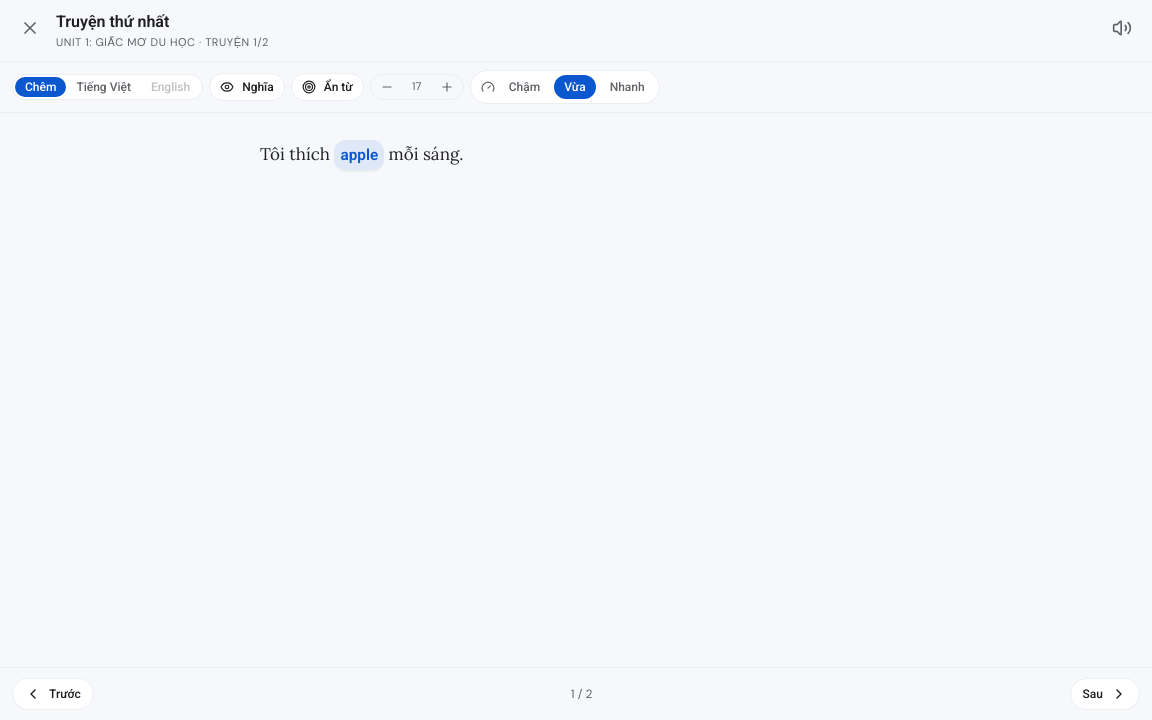
Test: StoryFullscreenReader › tăng/giảm cỡ chữ và ghi nhớ vào localStorage
Expected: the text "17" is shown, [412, 79, 421, 93]
Click the button named "Tăng cỡ chữ" at (447, 86), box [435, 74, 459, 98]
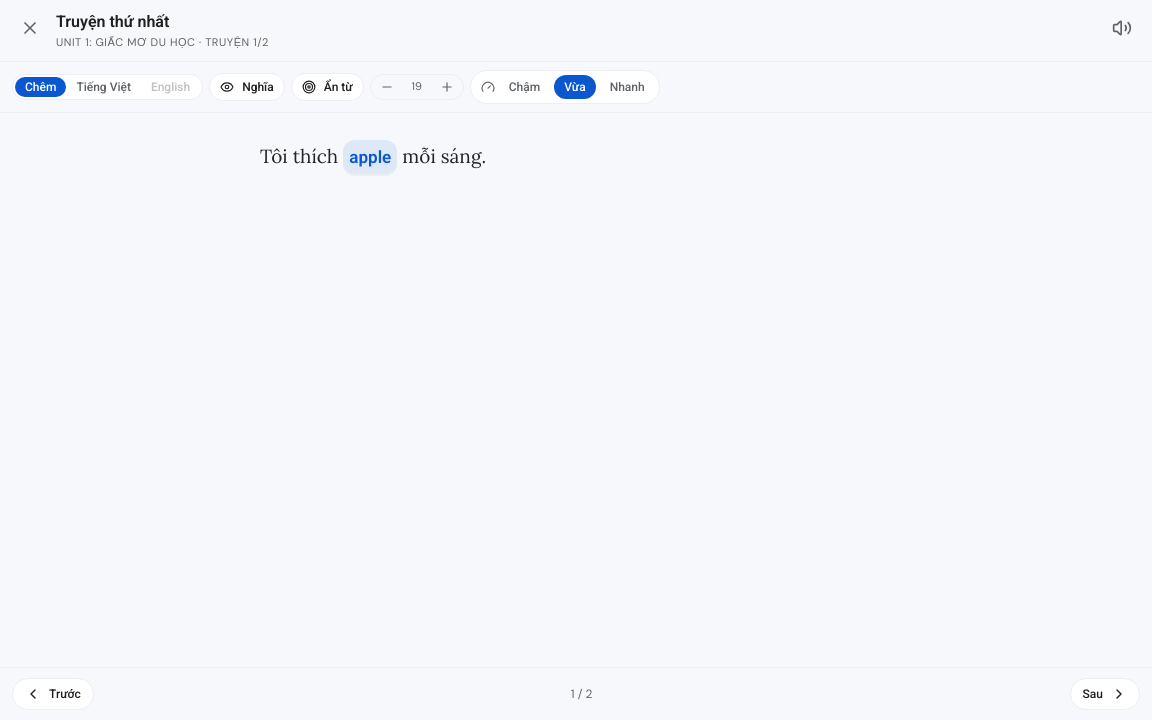
Now the text "19" is shown, box [412, 79, 422, 93]
Click the button named "Giảm cỡ chữ" at (387, 86), box [375, 74, 399, 98]
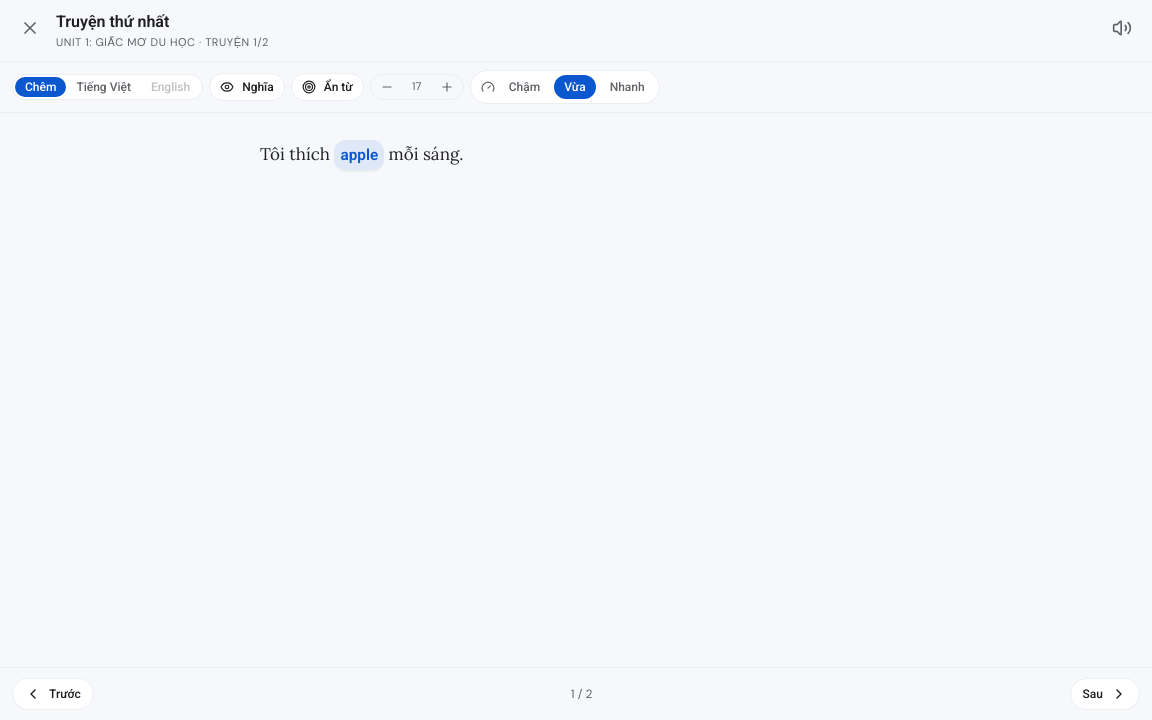
Now the text "17" is shown, box [412, 79, 421, 93]
